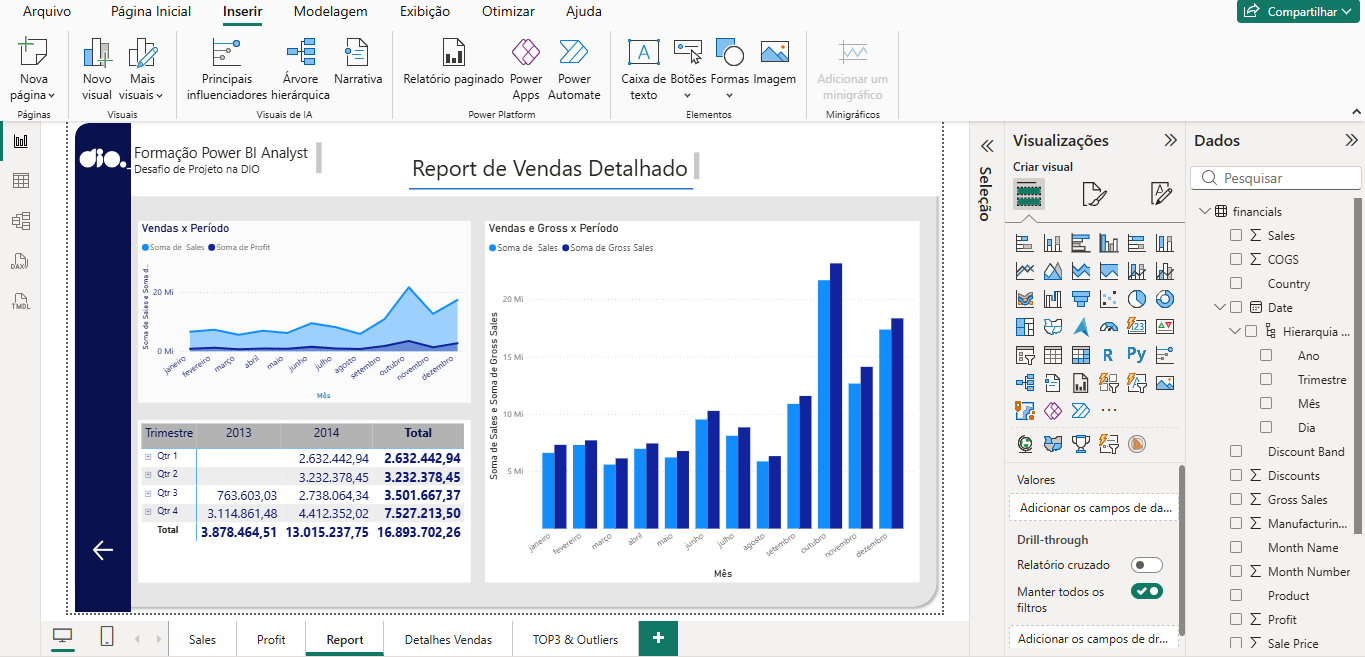

The page's visual inventory and layout, read from the dashboard file:
{"tool":"powerbi","page":{"name":"Report","canvas":[1280,720],"ordinal":2},"visuals":[{"type":"shape","box":[0,0,1280,719.7],"z":0},{"type":"shape","box":[92.5,5.1,1187.5,104.5],"z":1000},{"type":"shape","box":[10.3,3.4,82.2,716.3],"z":2000},{"type":"textbox","box":[498.6,41.1,430.1,51.4],"z":3000},{"type":"image","title":"logo DIO","box":[10.2,16.1,92.2,77.6],"z":4000},{"type":"actionButton","box":[32.2,608.8,49.8,39.5],"z":5000},{"type":"shape","box":[498.6,15.4,416.4,166.2],"z":6000},{"type":"textbox","box":[92.2,26.3,283.9,57.1],"z":7000},{"type":"clusteredColumnChart","title":"Vendas e Gross x Período","fields":{"Category":["financials.Date.Variation.Hierarquia de datas.Mês"],"Y":["Sum(financials. Sales)","Sum(financials.Gross Sales)"]},"box":[610,145.6,635.7,529.5],"z":8000},{"type":"areaChart","title":"Vendas x Período","fields":{"Category":["financials.Date.Variation.Hierarquia de datas.Mês"],"Y":["Sum(financials. Sales)","Sum(financials.Profit)"]},"box":[102.8,145.6,486.6,265.6],"z":9000},{"type":"pivotTable","fields":{"Columns":["financials.Date.Variation.Hierarquia de datas.Ano"],"Rows":["financials.Date.Variation.Hierarquia de datas.Trimestre","financials.Date.Variation.Hierarquia de datas.Mês"],"Values":["Sum(financials.Profit)"]},"box":[102.8,436.9,486.6,238.2],"z":10000}]}

Visuals, with their boxes on the page's 1280x720 design canvas (x1, y1, x2, y2). These are canvas units, not pixel positions in the 1365x657 screenshot, which may show the page scaled, cropped or inside an application window:
shape: l=0, t=0, r=1280, b=720
shape: l=92, t=5, r=1280, b=110
shape: l=10, t=3, r=92, b=720
textbox: l=499, t=41, r=929, b=92
"logo DIO" image: l=10, t=16, r=102, b=94
actionButton: l=32, t=609, r=82, b=648
shape: l=499, t=15, r=915, b=182
textbox: l=92, t=26, r=376, b=83
"Vendas e Gross x Período" clusteredColumnChart: l=610, t=146, r=1246, b=675
"Vendas x Período" areaChart: l=103, t=146, r=589, b=411
pivotTable - financials.Date.Variation.Hierarquia de datas.Ano x financials.Date.Variation.Hierarquia de datas.Trimestre: l=103, t=437, r=589, b=675
